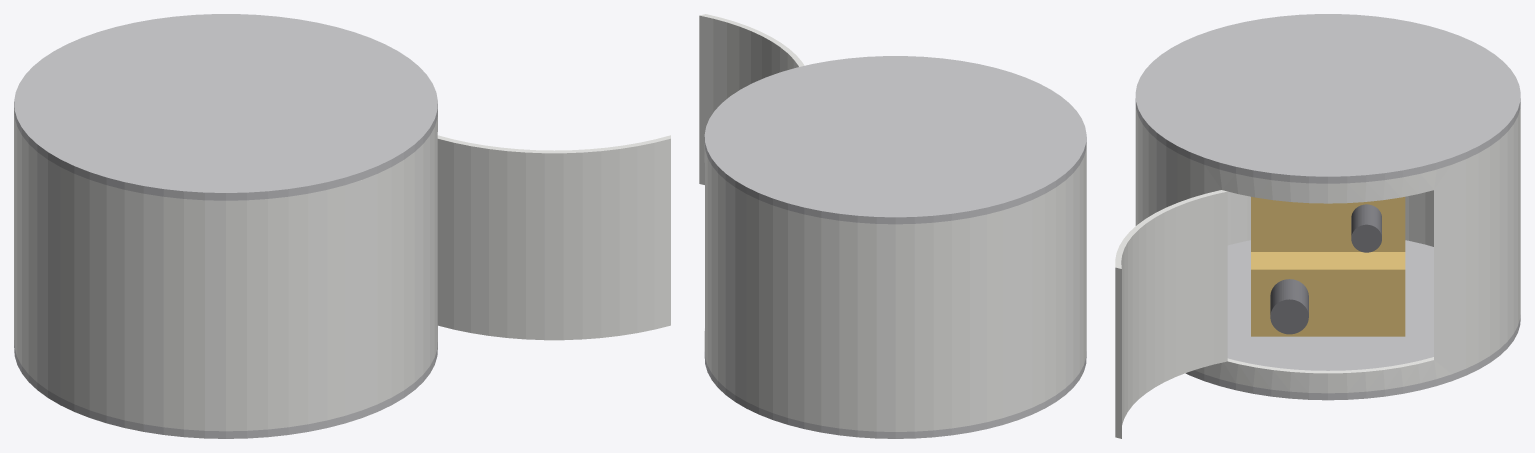
Rendered from sci03_science_bay_m_door_open.glb.
3 views of the same model, side by side, from view 1: azimuth 30°, elevation 25°; view 2: azimuth 150°, elevation 25°; view 3: azimuth 270°, elevation 25° (orthographic). The views are drawn at different scales.
Parts seen in each view (by area): view 1: shell, end_rings, door; view 2: shell, end_rings, door; view 3: end_rings, shell, door, instruments, instrument_heads.
Boxes of the visible parts, left/top/right/bottom form: shell: left=14, top=110, right=437, bottom=431; end_rings: left=14, top=14, right=437, bottom=438; door: left=437, top=135, right=670, bottom=340; shell: left=704, top=144, right=1086, bottom=431; end_rings: left=704, top=56, right=1086, bottom=438; door: left=699, top=14, right=804, bottom=184; end_rings: left=1135, top=14, right=1520, bottom=400; shell: left=1135, top=105, right=1520, bottom=393; door: left=1115, top=190, right=1227, bottom=438; instruments: left=1251, top=196, right=1405, bottom=336; instrument_heads: left=1270, top=204, right=1381, bottom=334.
Size of the model in its own units: 3.5 by 1.6 by 2.63.
